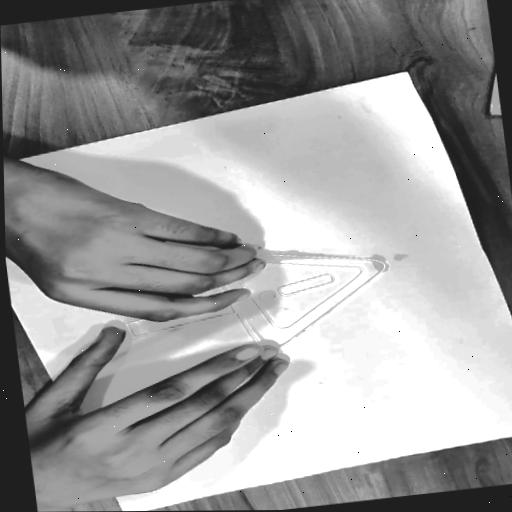bottom_left: (115, 509, 136, 511)
signboard: (79, 203, 423, 400)
top_right: (397, 65, 414, 77)
